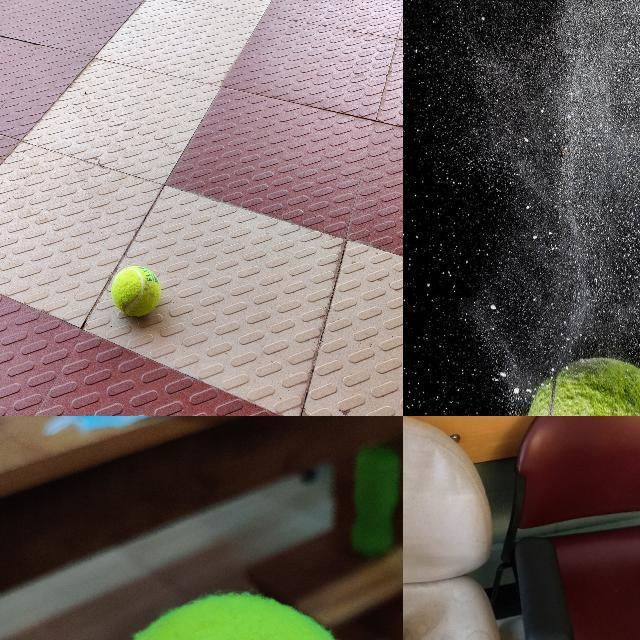tennis-ball: (524, 357, 639, 415), (112, 266, 161, 316)
